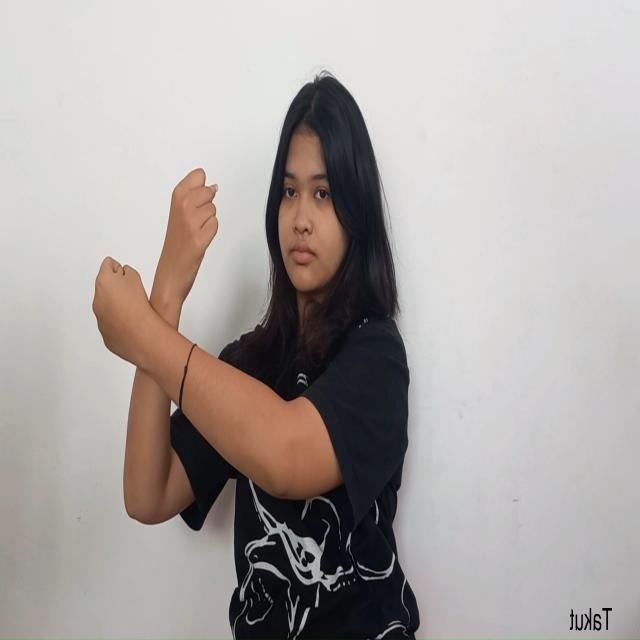Takut -BISINDO-: (92, 166, 218, 384)
